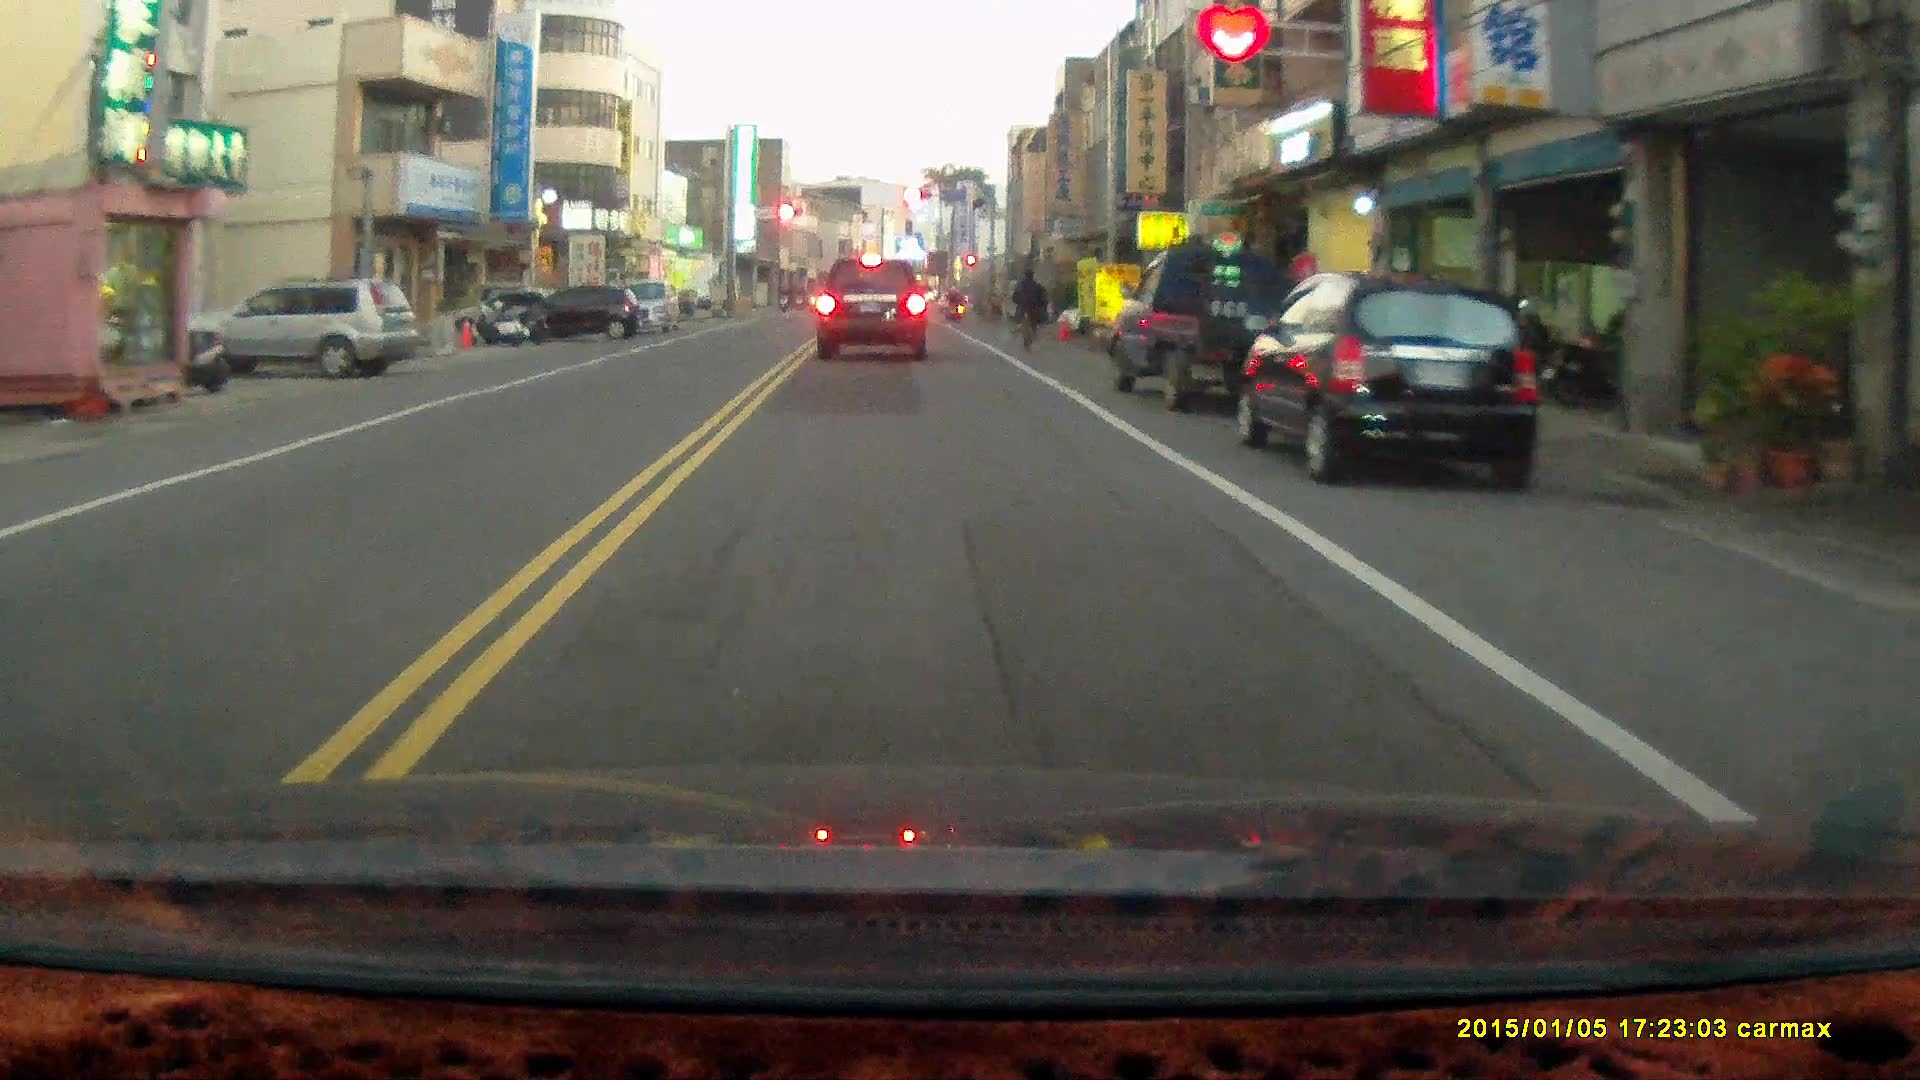rider: (1008, 265, 1045, 351)
vehicle: (1237, 270, 1542, 489), (1105, 243, 1312, 412), (184, 282, 422, 384), (815, 257, 931, 366), (515, 284, 648, 345)
